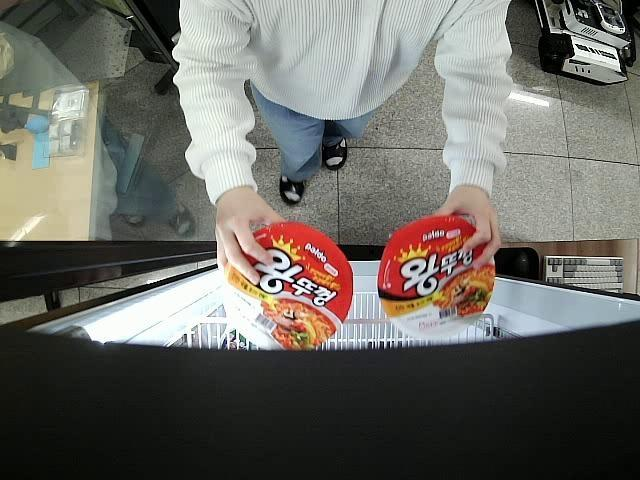10_wangTtukkeong: (219, 222, 353, 347), (376, 213, 496, 338)
